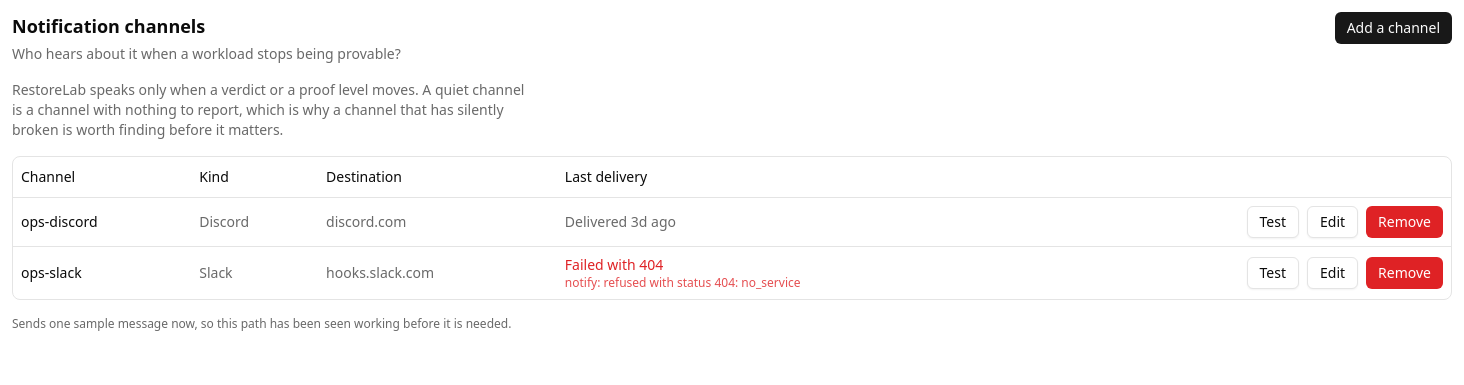
Test: NotificationChannels › shows a refused test beside the channel that refused
Click the button "Test" in the row of "ops-discord" at (1273, 222), box [1247,206,1299,238]
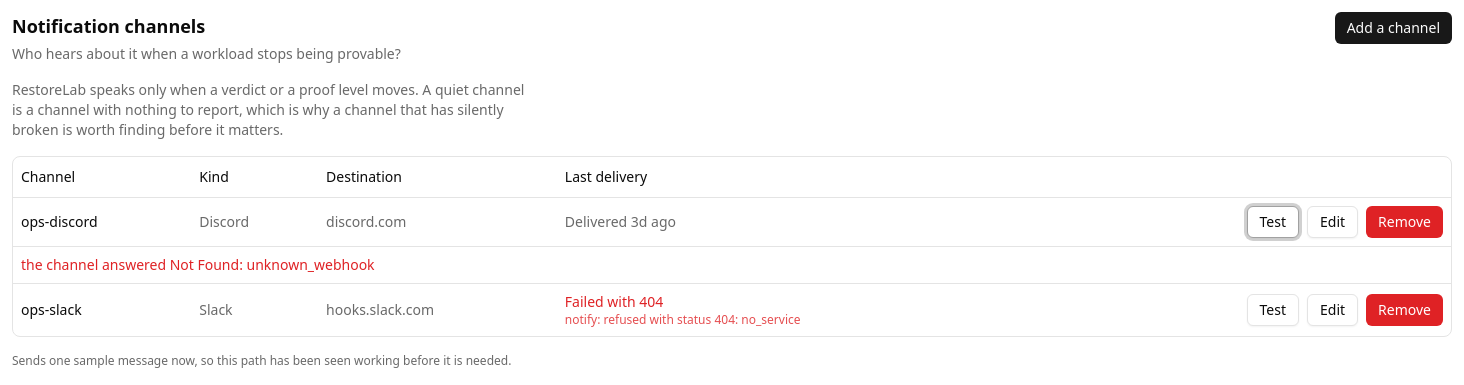
Check: the text "the channel answered Not Found: unknown_webhook" is shown, box [21,254,375,274]
